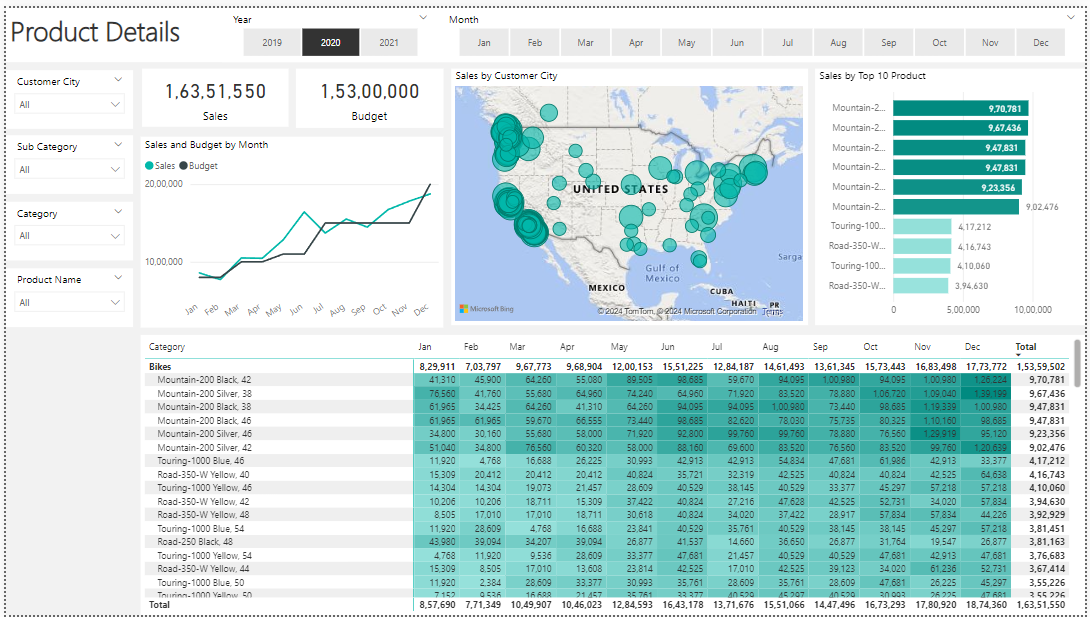

What the dashboard file says about the page in this screenshot:
{"tool":"powerbi","page":{"name":"Product Details","canvas":[1280,720],"ordinal":2},"visuals":[{"type":"textbox","box":[0,0,1280,64],"z":0},{"type":"slicer","fields":{"Values":["DIM_Calendar.Year"]},"box":[256,0,256,64],"z":1000},{"type":"slicer","fields":{"Values":["DIM_Calendar.MonthShort"]},"box":[512,0,768,64],"z":2000},{"type":"slicer","fields":{"Values":["DIM_Customers.Customer City"]},"box":[0,73,150.5,69.3],"z":3000},{"type":"slicer","fields":{"Values":["DIM_Products.Product Category"]},"box":[0,229.9,150.5,69.3],"z":4000},{"type":"slicer","fields":{"Values":["DIM_Products.Product Name"]},"box":[0,308.4,150.5,69.3],"z":5000},{"type":"slicer","fields":{"Values":["DIM_Products.Sub Category"]},"box":[0,151.4,150.5,69.3],"z":6000},{"type":"lineChart","fields":{"Category":["DIM_Calendar.MonthShort"],"Y":["Analysis Metrics.Sales","Analysis Metrics.Budget"]},"box":[159.8,151.8,358.7,226.4],"z":7000},{"type":"card","fields":{"Values":["Analysis Metrics.Sales"]},"box":[160.7,72.8,174,69.2],"z":8000},{"type":"map","fields":{"Category":["DIM_Customers.Customer City"],"Size":["Analysis Metrics.Sales"]},"box":[527.3,72.8,423.5,304.5],"z":9000},{"type":"card","fields":{"Values":["Analysis Metrics.Budget"]},"box":[343.6,72.8,174.9,70.1],"z":10000},{"type":"pivotTable","fields":{"Rows":["DIM_Products.Product Category","DIM_Products.Product Name"],"Columns":["DIM_Calendar.MonthShort"],"Values":["Analysis Metrics.Sales"]},"box":[159.8,387.1,1120.4,332.9],"z":11000},{"type":"clusteredBarChart","title":"Sales by Top 10 Product","fields":{"Category":["DIM_Products.Product Name"],"Y":["Analysis Metrics.Sales"]},"box":[959.7,72.8,320.5,304.5],"z":12000}]}

Visuals, with their boxes in screenshot pixels (x1, y1, x2, y2), scaled from the page's 1280x720 canvas onto the 1090x617 screenshot:
textbox: select_region(0, 0, 1089, 55)
slicer - DIM_Calendar.Year: select_region(218, 0, 436, 55)
slicer - DIM_Calendar.MonthShort: select_region(436, 0, 1089, 55)
slicer - DIM_Customers.Customer City: select_region(0, 63, 128, 122)
slicer - DIM_Products.Product Category: select_region(0, 197, 128, 256)
slicer - DIM_Products.Product Name: select_region(0, 264, 128, 324)
slicer - DIM_Products.Sub Category: select_region(0, 130, 128, 189)
lineChart - DIM_Calendar.MonthShort x Analysis Metrics.Sales: select_region(136, 130, 442, 324)
card - Analysis Metrics.Sales: select_region(137, 62, 285, 122)
map - DIM_Customers.Customer City x Analysis Metrics.Sales: select_region(449, 62, 810, 323)
card - Analysis Metrics.Budget: select_region(293, 62, 442, 122)
pivotTable - DIM_Products.Product Category x DIM_Products.Product Name: select_region(136, 332, 1089, 616)
"Sales by Top 10 Product" clusteredBarChart: select_region(817, 62, 1089, 323)
